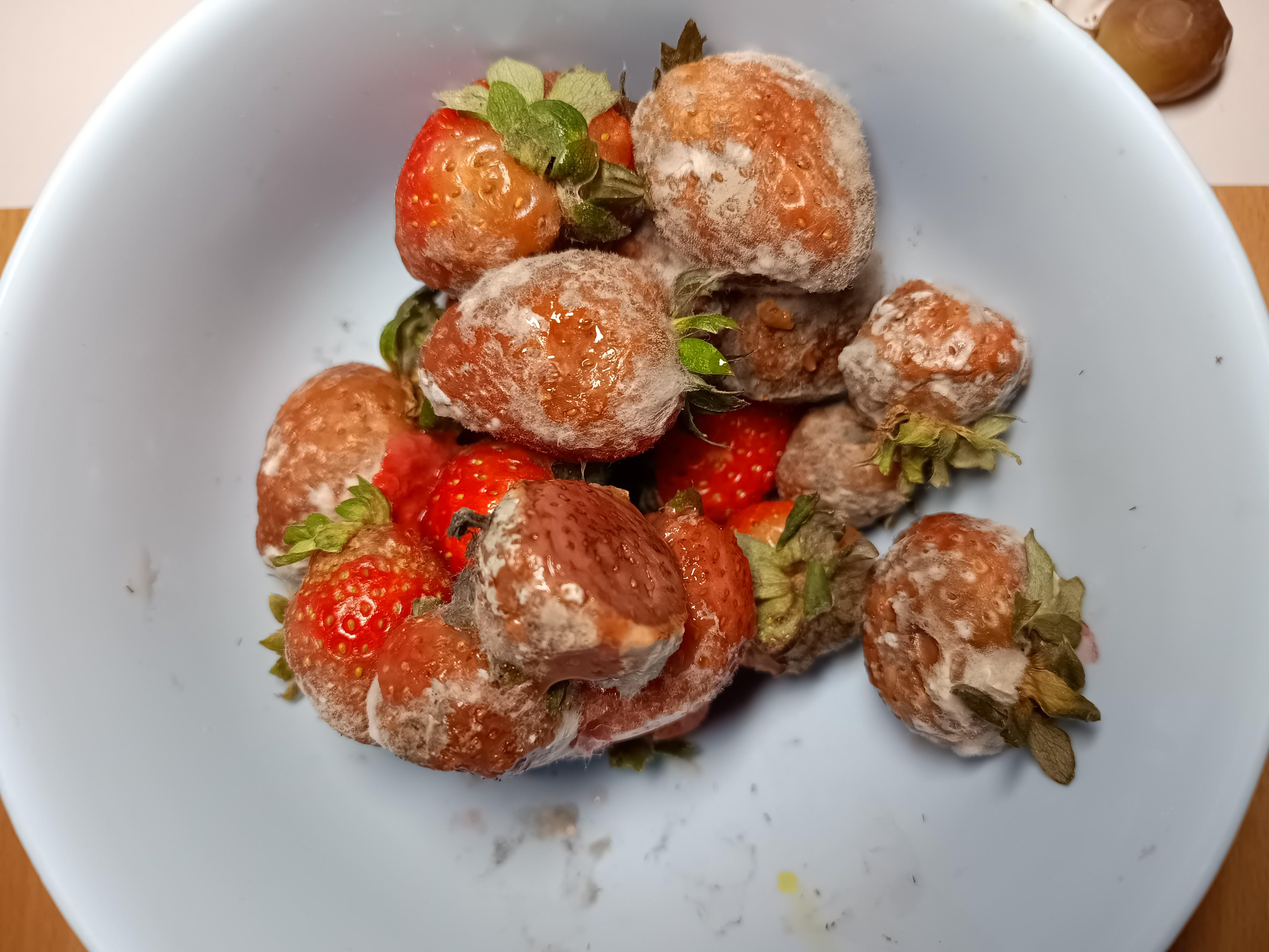strawberry: (480, 426, 604, 556)
